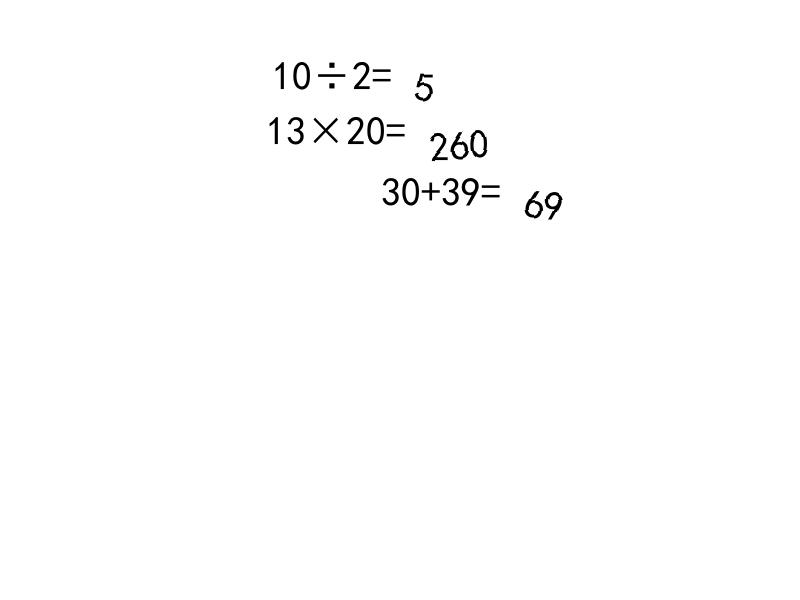+: (421, 171, 441, 201)
0: (292, 55, 312, 85), (366, 110, 386, 140), (456, 110, 476, 140), (401, 171, 421, 201)
1: (272, 55, 292, 85), (266, 110, 286, 140)
2: (352, 55, 372, 85), (346, 110, 366, 140), (416, 110, 436, 140)
3: (286, 110, 306, 140), (381, 171, 401, 201), (441, 171, 461, 201)
5: (402, 55, 422, 85)
6: (436, 110, 456, 140), (511, 171, 531, 201)
9: (461, 171, 481, 201), (531, 171, 551, 201)
=: (372, 55, 392, 85), (386, 110, 406, 140), (481, 171, 501, 201)
×: (306, 110, 346, 140)
÷: (312, 55, 352, 85)
